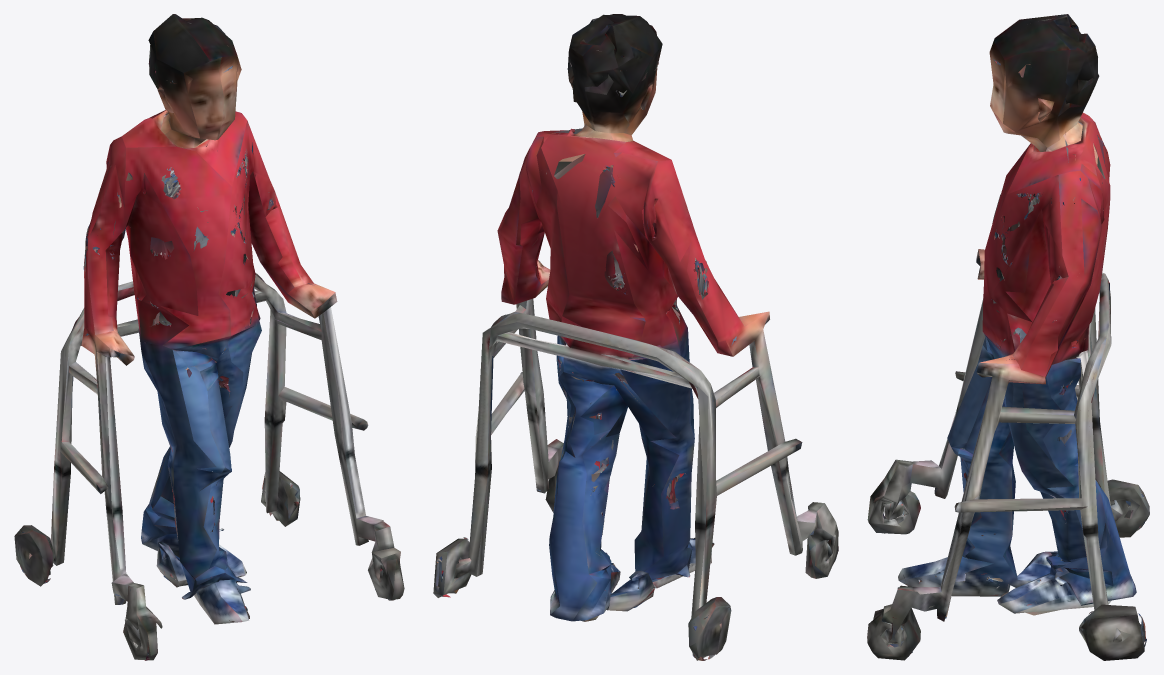
File: person_08.glb
3 renders of one model, left to right at view 1: azimuth 30°, elevation 25°; view 2: azimuth 150°, elevation 25°; view 3: azimuth 270°, elevation 25°, orthographic. The views are drawn at different scales.
Parts seen in each view (by area): view 1: Human_Rig; view 2: Human_Rig; view 3: Human_Rig.
Part boxes in pixels (bbox=[...]): Human_Rig: bbox=[14, 14, 404, 660]; Human_Rig: bbox=[433, 14, 838, 660]; Human_Rig: bbox=[867, 14, 1149, 660].
Size of the model in its own units: 0.6054 by 1.18 by 0.5205.
Materials: 1 (1 with a texture image).
